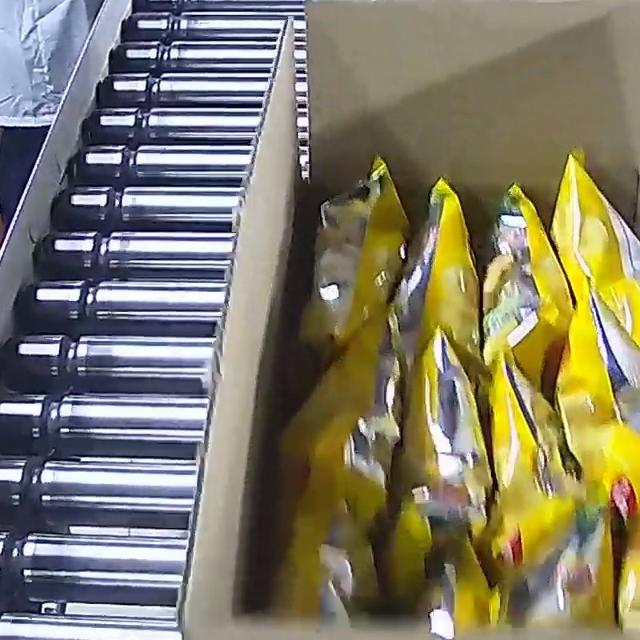salted: (263, 145, 640, 640)
